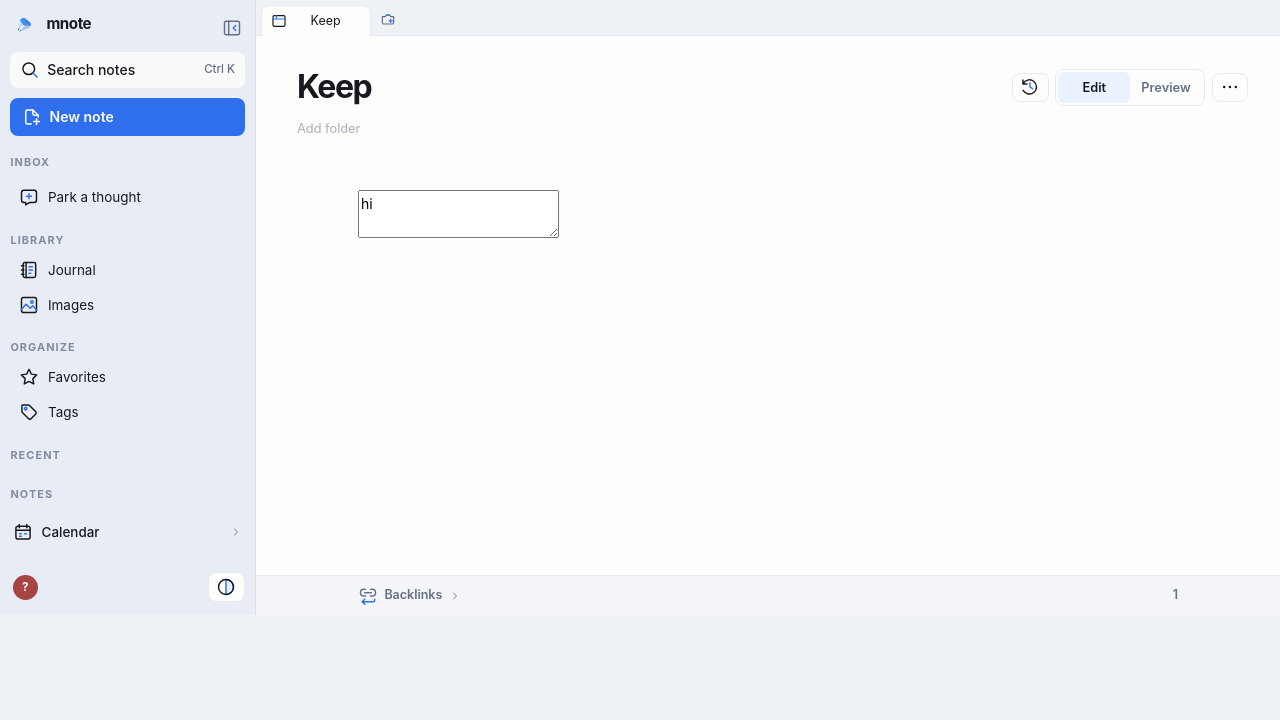
Test: NoteView › shows a pending tab and empty page when adding a tab
Click the button with test id "tab-add" at (388, 19), box [374,6,402,33]
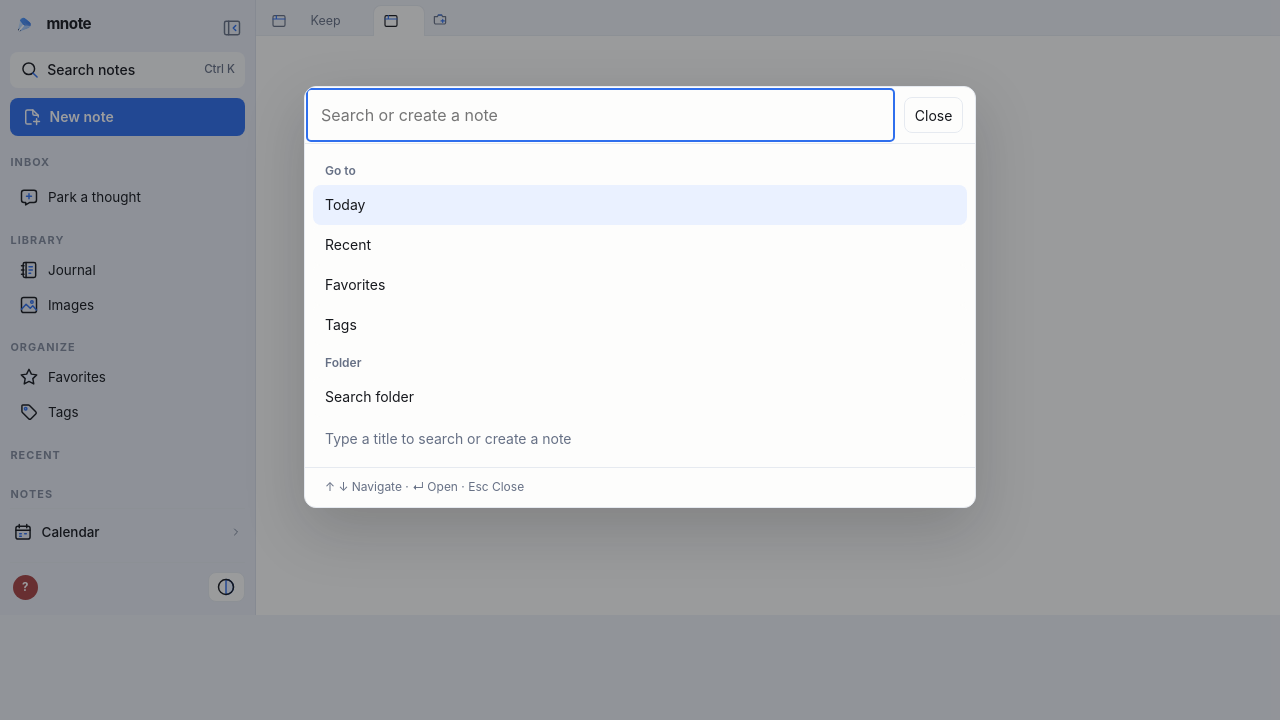
Check: the tab with test id "tab-pending" is shown, box [373,5,425,36]
Check: the element with test id "tab-pending-page" is shown
Check: the dialog with test id "picker" is shown, box [304,86,976,508]
Click the button with aria-label "Close picker" at (934, 115), box [904,97,963,133]
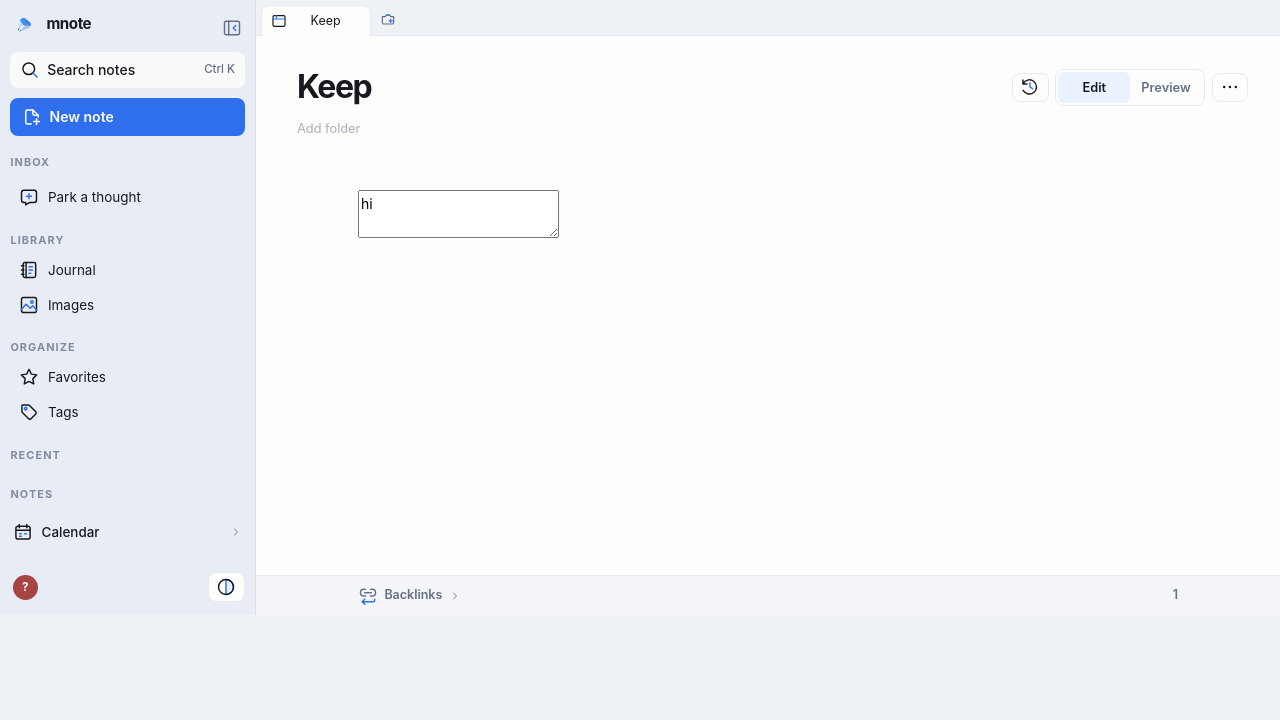
Check: the heading with test id "note-title" reads "Keep", box [297,67,371,106]
